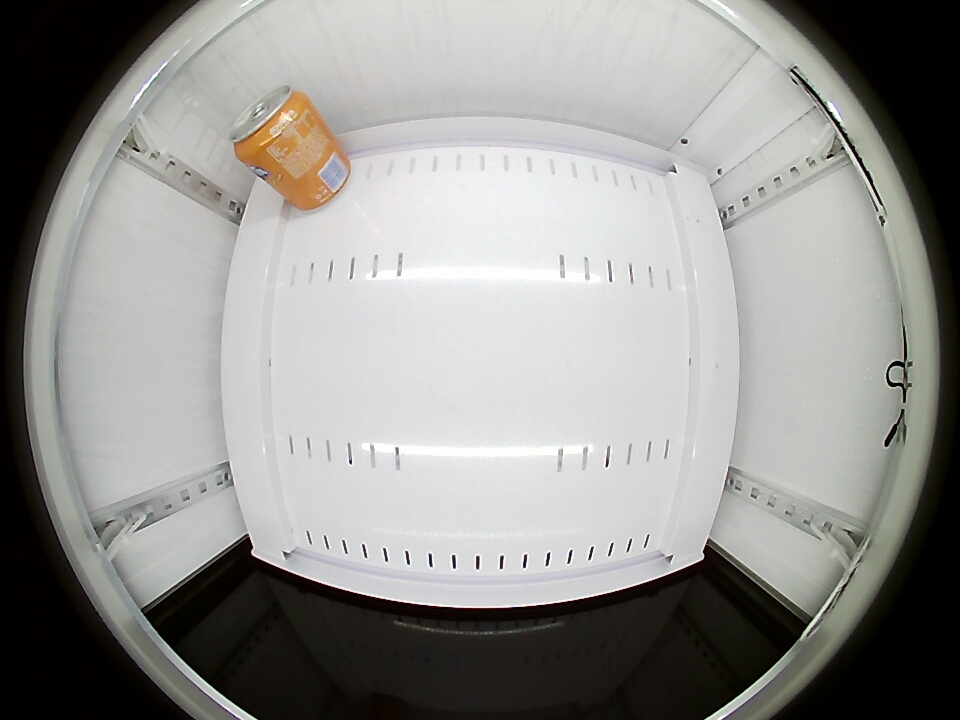fenda: (230, 86, 310, 165)
